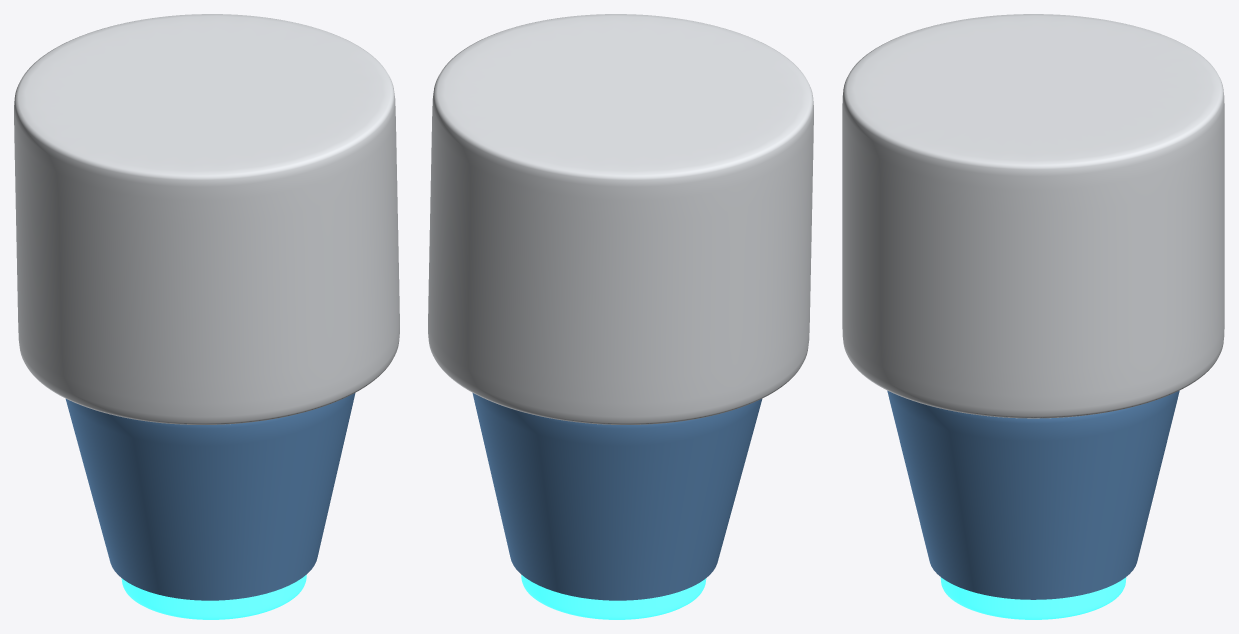
The model's file is laser_R.glb.
The picture shows the model from 3 angles, left to right: view 1: azimuth 30°, elevation 25°; view 2: azimuth 150°, elevation 25°; view 3: azimuth 270°, elevation 25°; orthographic projection.
Parts seen in each view (by area): view 1: ACC_laser_R_sleeve, ACC_laser_R_emitter, ACC_laser_R_lens; view 2: ACC_laser_R_sleeve, ACC_laser_R_emitter, ACC_laser_R_lens; view 3: ACC_laser_R_sleeve, ACC_laser_R_emitter, ACC_laser_R_lens.
Part boxes in pixels (bbox=[...]): ACC_laser_R_sleeve: bbox=[14, 14, 399, 424]; ACC_laser_R_emitter: bbox=[65, 393, 355, 600]; ACC_laser_R_lens: bbox=[121, 575, 306, 619]; ACC_laser_R_sleeve: bbox=[428, 14, 813, 424]; ACC_laser_R_emitter: bbox=[472, 393, 762, 600]; ACC_laser_R_lens: bbox=[521, 575, 706, 619]; ACC_laser_R_sleeve: bbox=[842, 14, 1224, 418]; ACC_laser_R_emitter: bbox=[887, 390, 1179, 599]; ACC_laser_R_lens: bbox=[940, 577, 1126, 619].
Size of the model in its own units: 0.3319 by 0.4693 by 0.3279.
